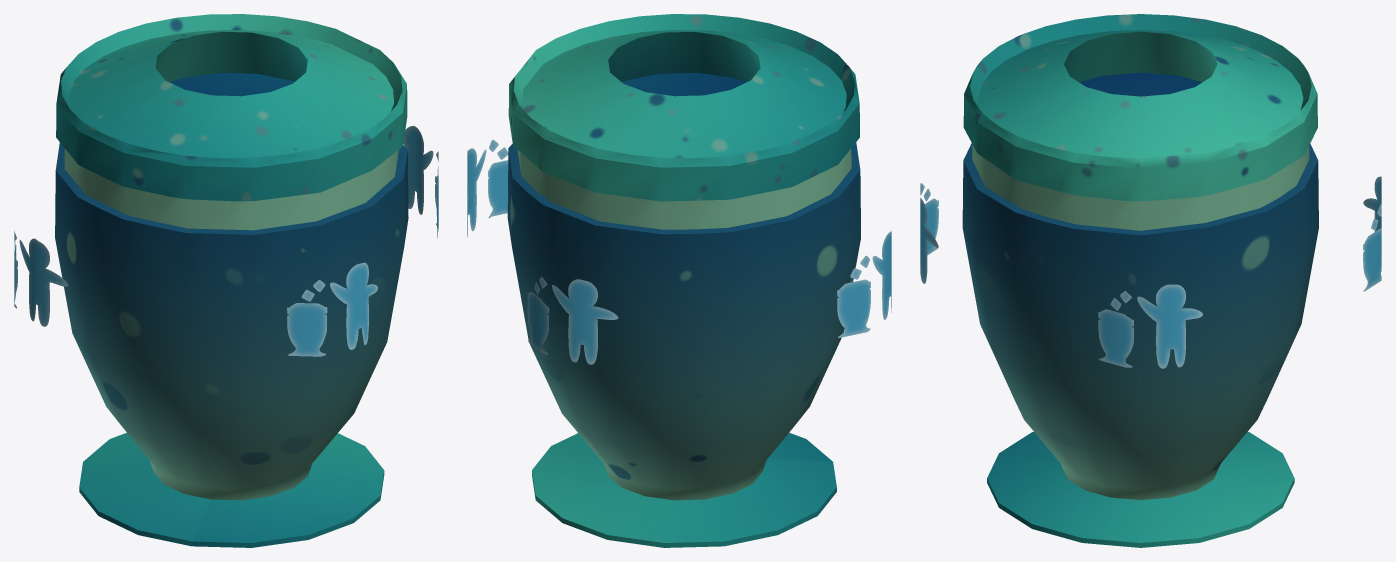
Rendered from trash-can.fbx.
3 renders of one model, left to right at view 1: azimuth 30°, elevation 25°; view 2: azimuth 150°, elevation 25°; view 3: azimuth 270°, elevation 25°, orthographic.
Parts seen in each view (by area): view 1: trash_can_body, trash_can_cover, trash_can_base, trash_can_hologram; view 2: trash_can_body, trash_can_cover, trash_can_base, trash_can_hologram; view 3: trash_can_body, trash_can_cover, trash_can_base, trash_can_hologram.
Part boxes in pixels (box(x1,y1,x2,y2)): trash_can_body: box(55, 142, 408, 500); trash_can_cover: box(56, 14, 407, 201); trash_can_base: box(79, 432, 384, 547); trash_can_hologram: box(14, 126, 438, 356); trash_can_body: box(507, 142, 860, 500); trash_can_cover: box(508, 14, 859, 201); trash_can_base: box(532, 432, 836, 547); trash_can_hologram: box(467, 139, 891, 364); trash_can_body: box(962, 143, 1318, 499); trash_can_cover: box(963, 14, 1317, 201); trash_can_base: box(987, 431, 1294, 547); trash_can_hologram: box(920, 176, 1381, 368).
Bounding box in the file's own units: 0.9962 × 0.9982 × 0.9962.
